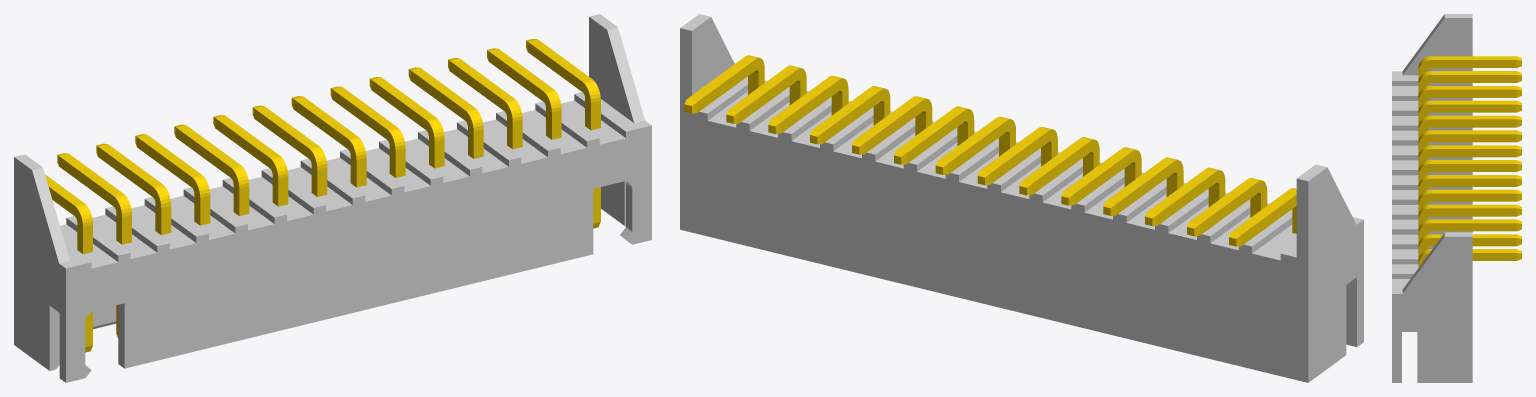
File: DS1069-14 CWF-14R.obj
3 renders of one model, left to right at view 1: azimuth 30°, elevation 25°; view 2: azimuth 150°, elevation 25°; view 3: azimuth 270°, elevation 25°, orthographic. The views are drawn at different scales.
Visible parts, largest first — view 1: DS1069-14_CWF-14R; view 2: DS1069-14_CWF-14R; view 3: DS1069-14_CWF-14R.
Boxes of the visible parts, x1,y1,x2,y2 form: DS1069-14_CWF-14R: [14, 14, 651, 382]; DS1069-14_CWF-14R: [680, 14, 1363, 382]; DS1069-14_CWF-14R: [1392, 14, 1521, 382].
Size of the model in its own units: 0.0258 by 0.0079 by 0.00635.
